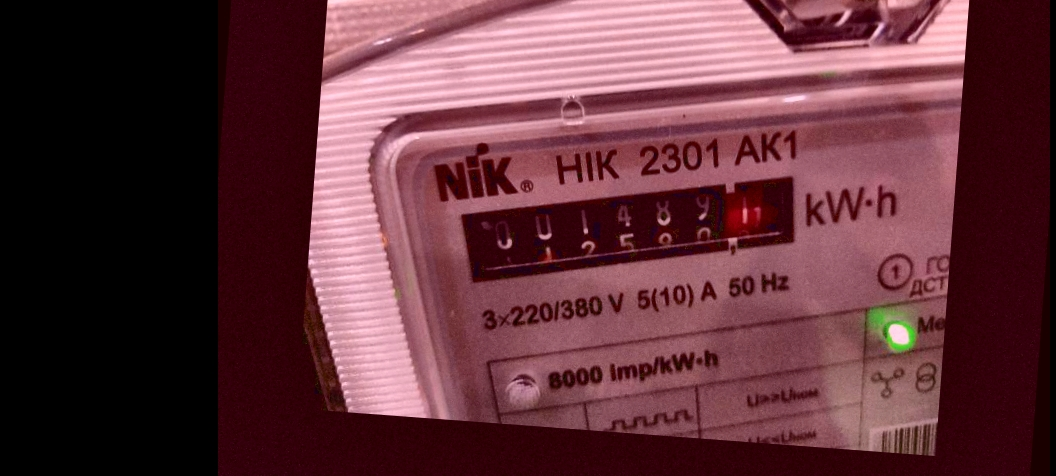0: (529, 204, 558, 242), (490, 216, 517, 252)
1: (734, 188, 756, 227), (574, 204, 596, 236)
4: (612, 197, 637, 229)
8: (653, 191, 676, 229)
9: (692, 188, 715, 222)
screen: (444, 141, 829, 319)
